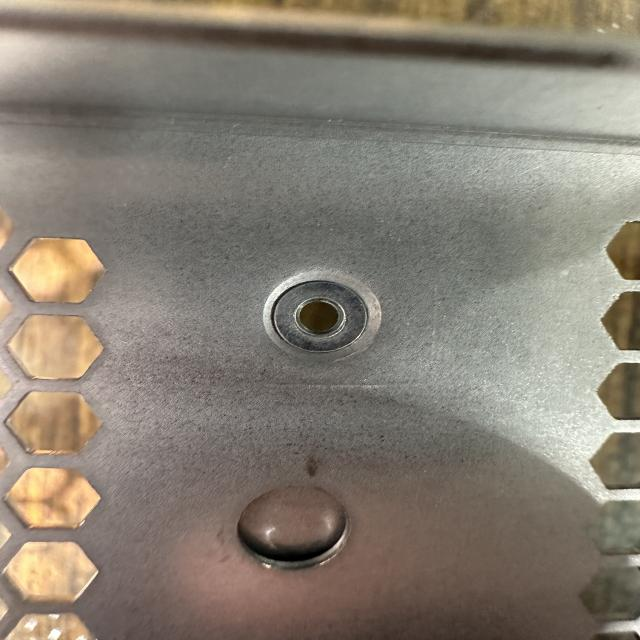Missing screw: (236, 260, 404, 370)
